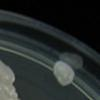white: (57, 66, 77, 88), (51, 60, 68, 78)
